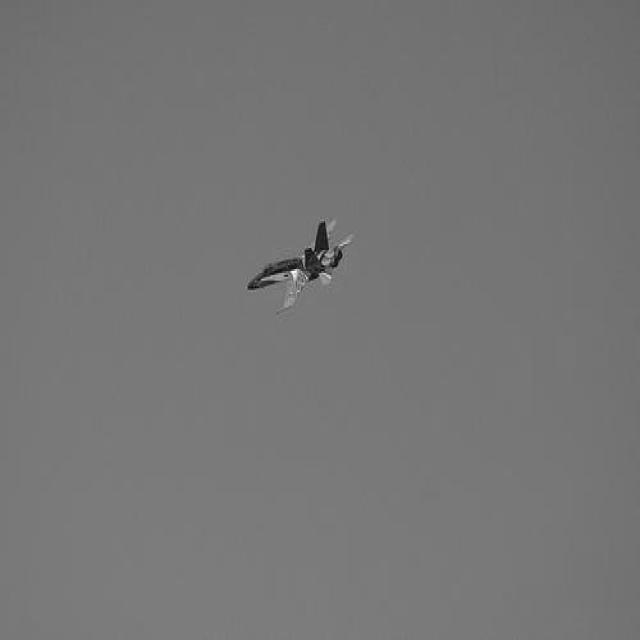aeroplane: (246, 217, 354, 313)
